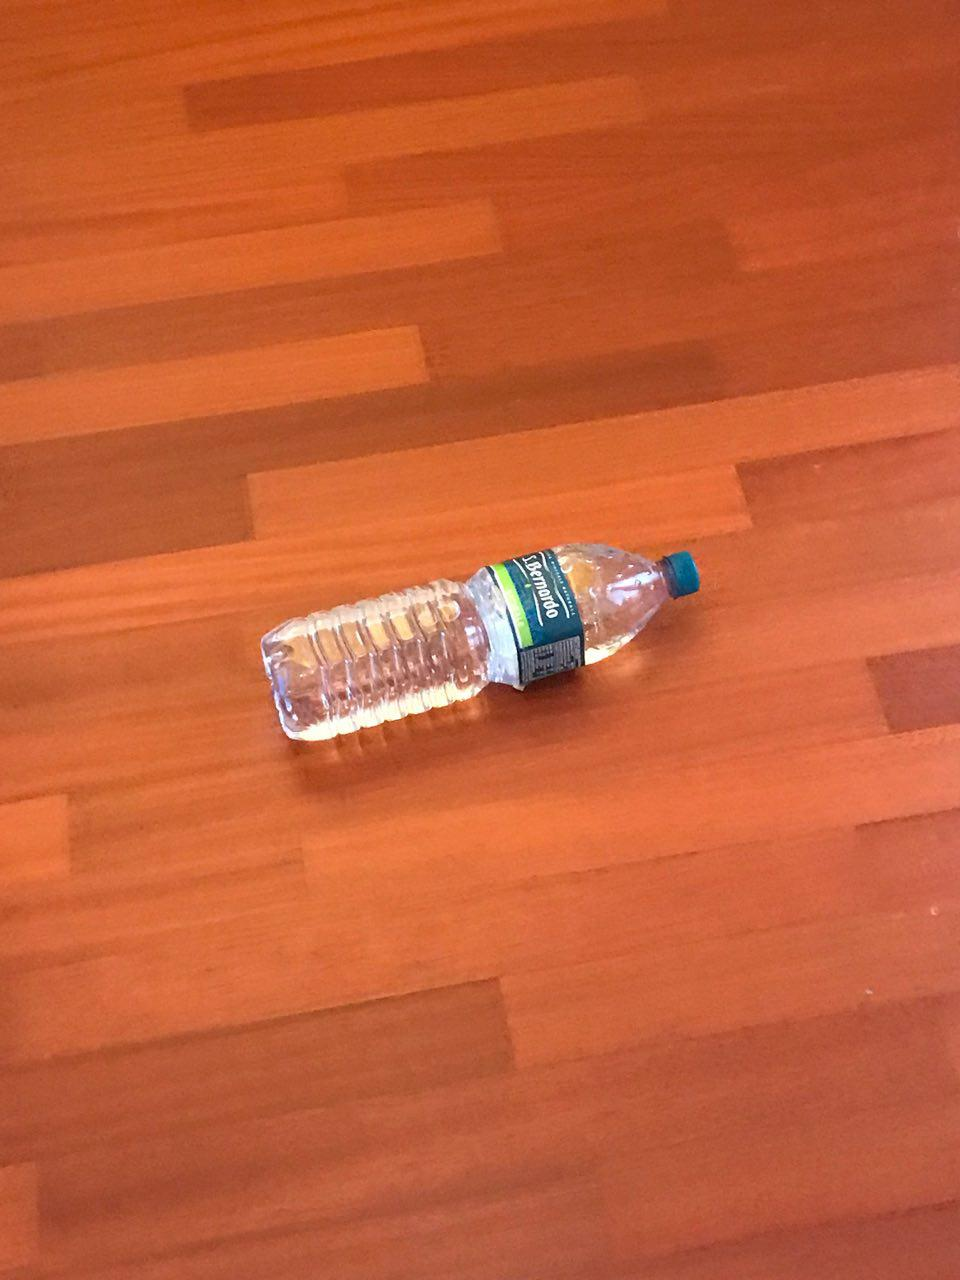san_bernardo: (257, 542, 703, 744)
